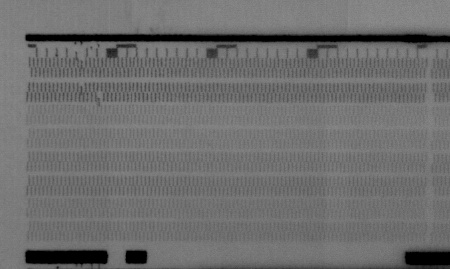Oblique printing: (94, 91, 107, 107), (76, 57, 89, 70), (75, 82, 87, 96)
